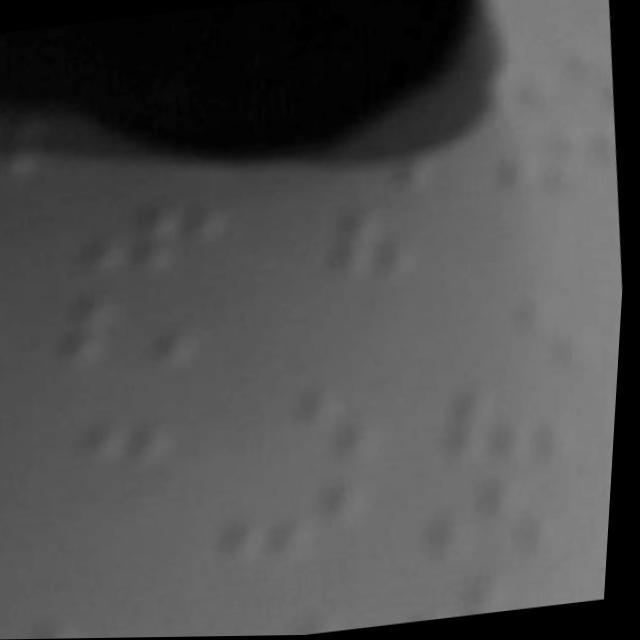braiile: (78, 177, 242, 283), (51, 283, 208, 386), (33, 379, 196, 475), (448, 291, 609, 386), (236, 386, 400, 478), (270, 197, 432, 290), (217, 478, 379, 569), (436, 381, 590, 472)
